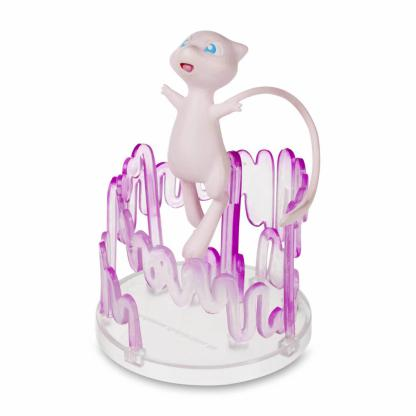Mew: (1, 1, 314, 416)
